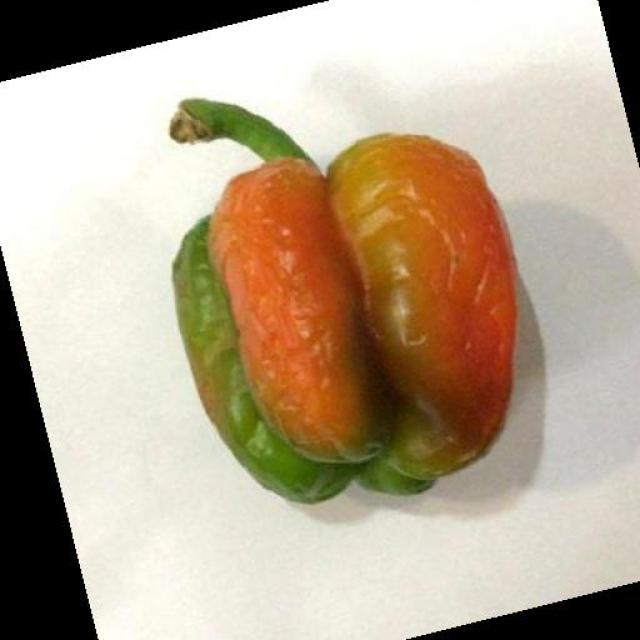Stale_Capsicum: (156, 91, 526, 504)
